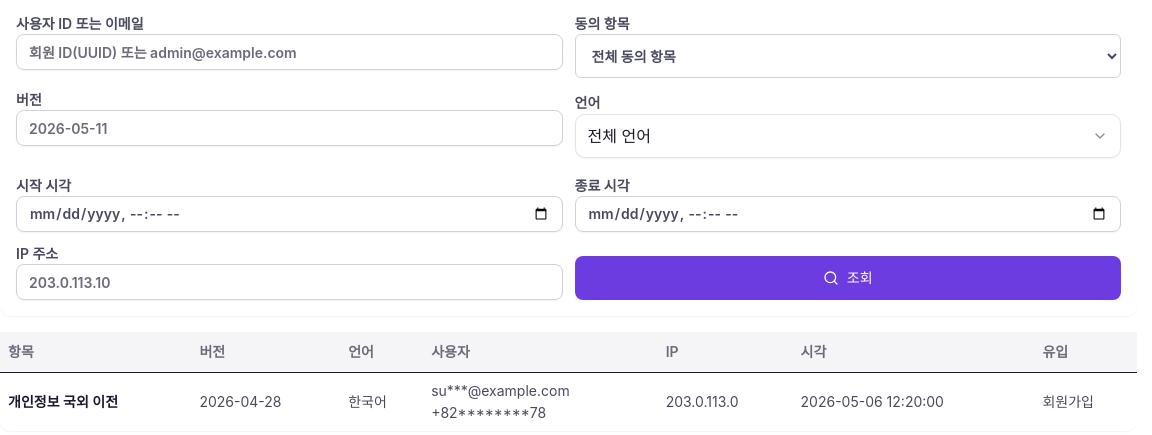
Test case: ConsentAuditTable › exposes the active Chinese consent filter without a Japanese launch option
Step 1. Click the dropdown labelled "언어" → coordinates (619, 136), box x1=574 y1=114 x2=1121 y2=158
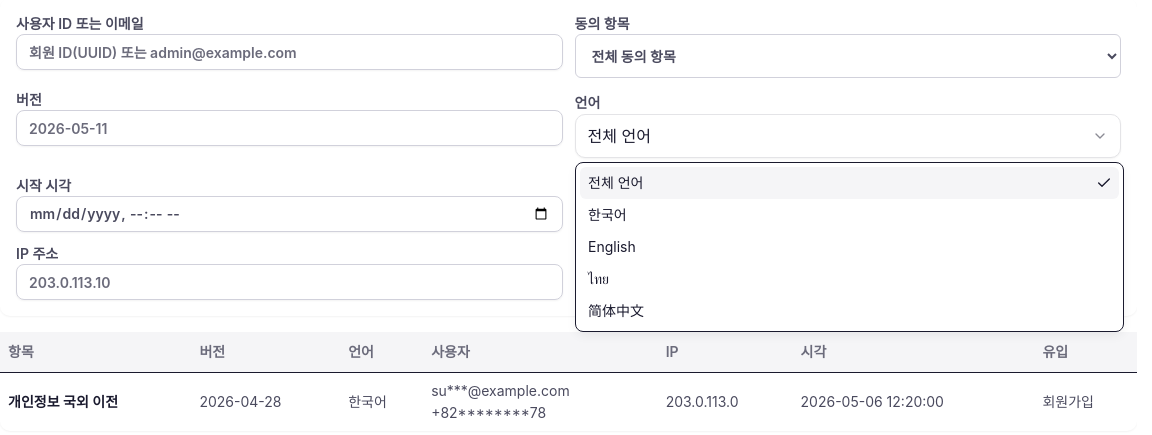
Now the option "简体中文" is shown, box x1=588 y1=302 x2=644 y2=319
